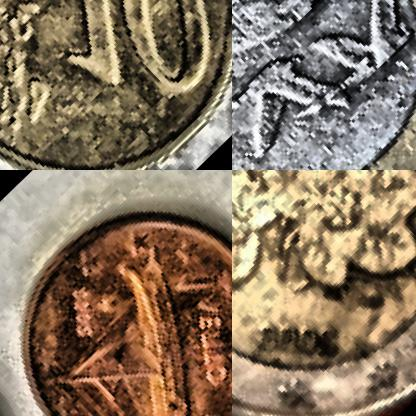coin: (0, 170, 231, 415), (232, 170, 415, 415), (0, 0, 231, 169), (232, 0, 415, 169)
